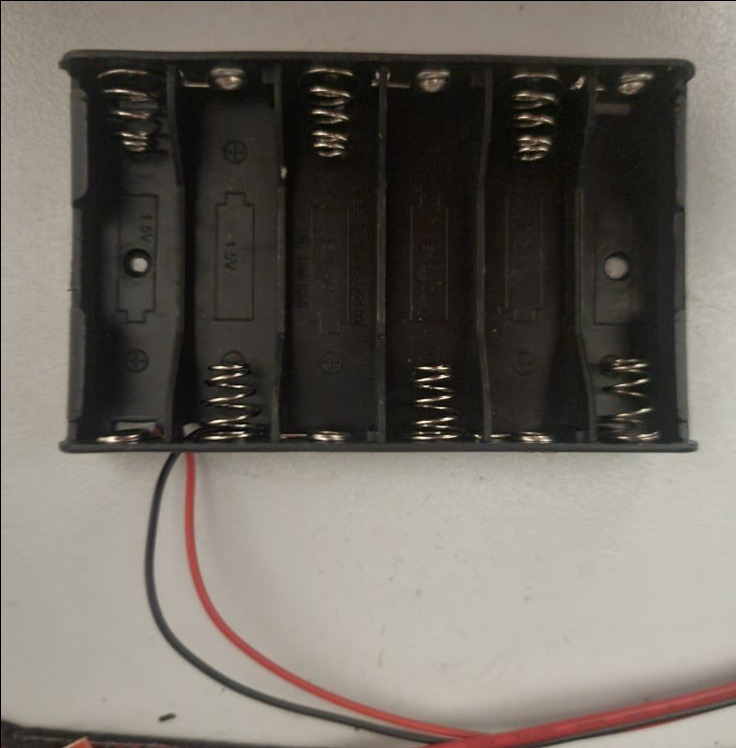BATTERY BOX: (50, 44, 698, 456)
